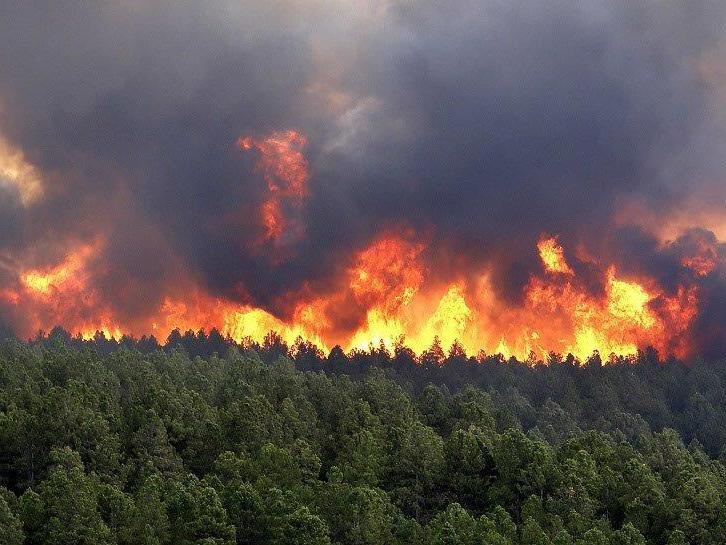Fire: (135, 224, 711, 369), (17, 227, 120, 348)
